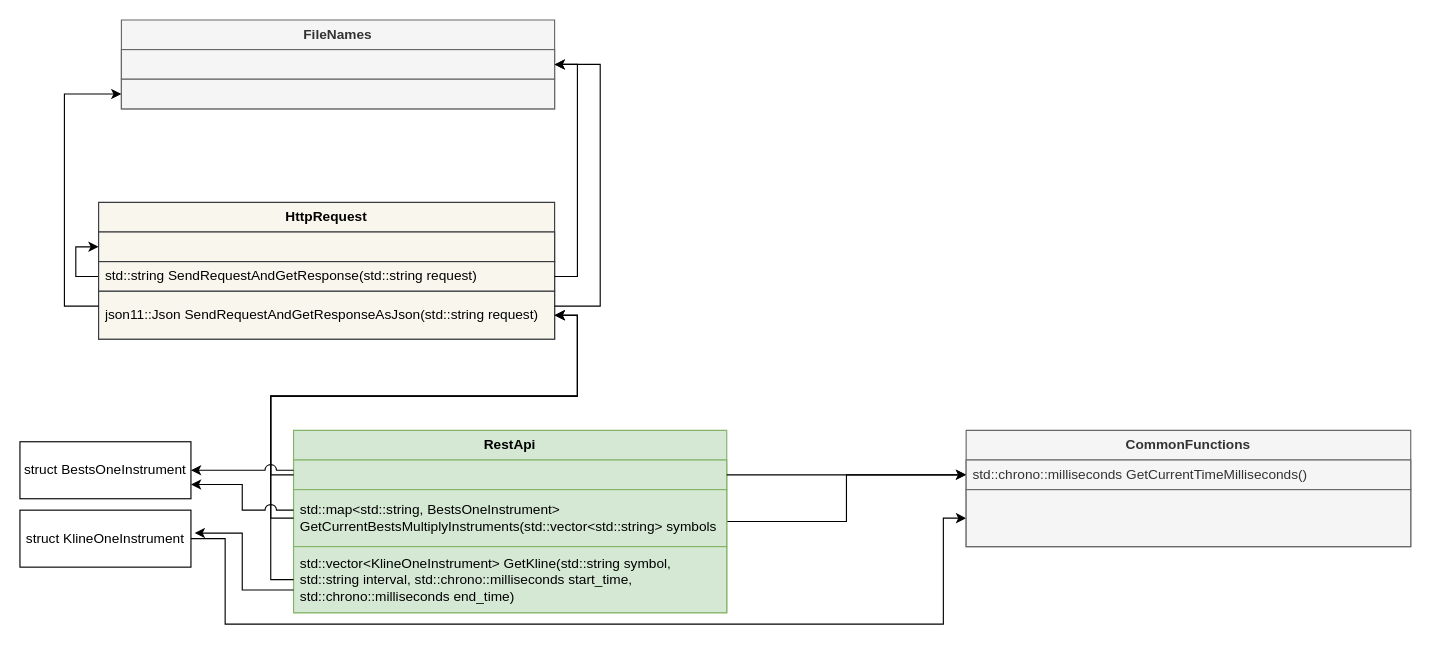
Some shapes in this 1431 by 653 pixel diagram are drawn without their labels. The shapes that lost their labels are listed below. From the top down, each one's box as (x1, y1, x2, y2) in pixels, then its label:
(120, 48, 555, 79): const std::string kTempFileForResponse = "a.txt";
(120, 78, 555, 109): const std::string kRestResponseHistory = "RestResponseHistory.txt";
(97, 231, 555, 262): std::string ReadFileAndReturnString(std::string filename_to_read_from)
(292, 459, 727, 490): BestsOneInstrument GetCurrentBests(std::string symbol)
(965, 488, 1411, 547): std::string CovertStampToHumanDate(std::chrono::milliseconds unix_timestamp)
